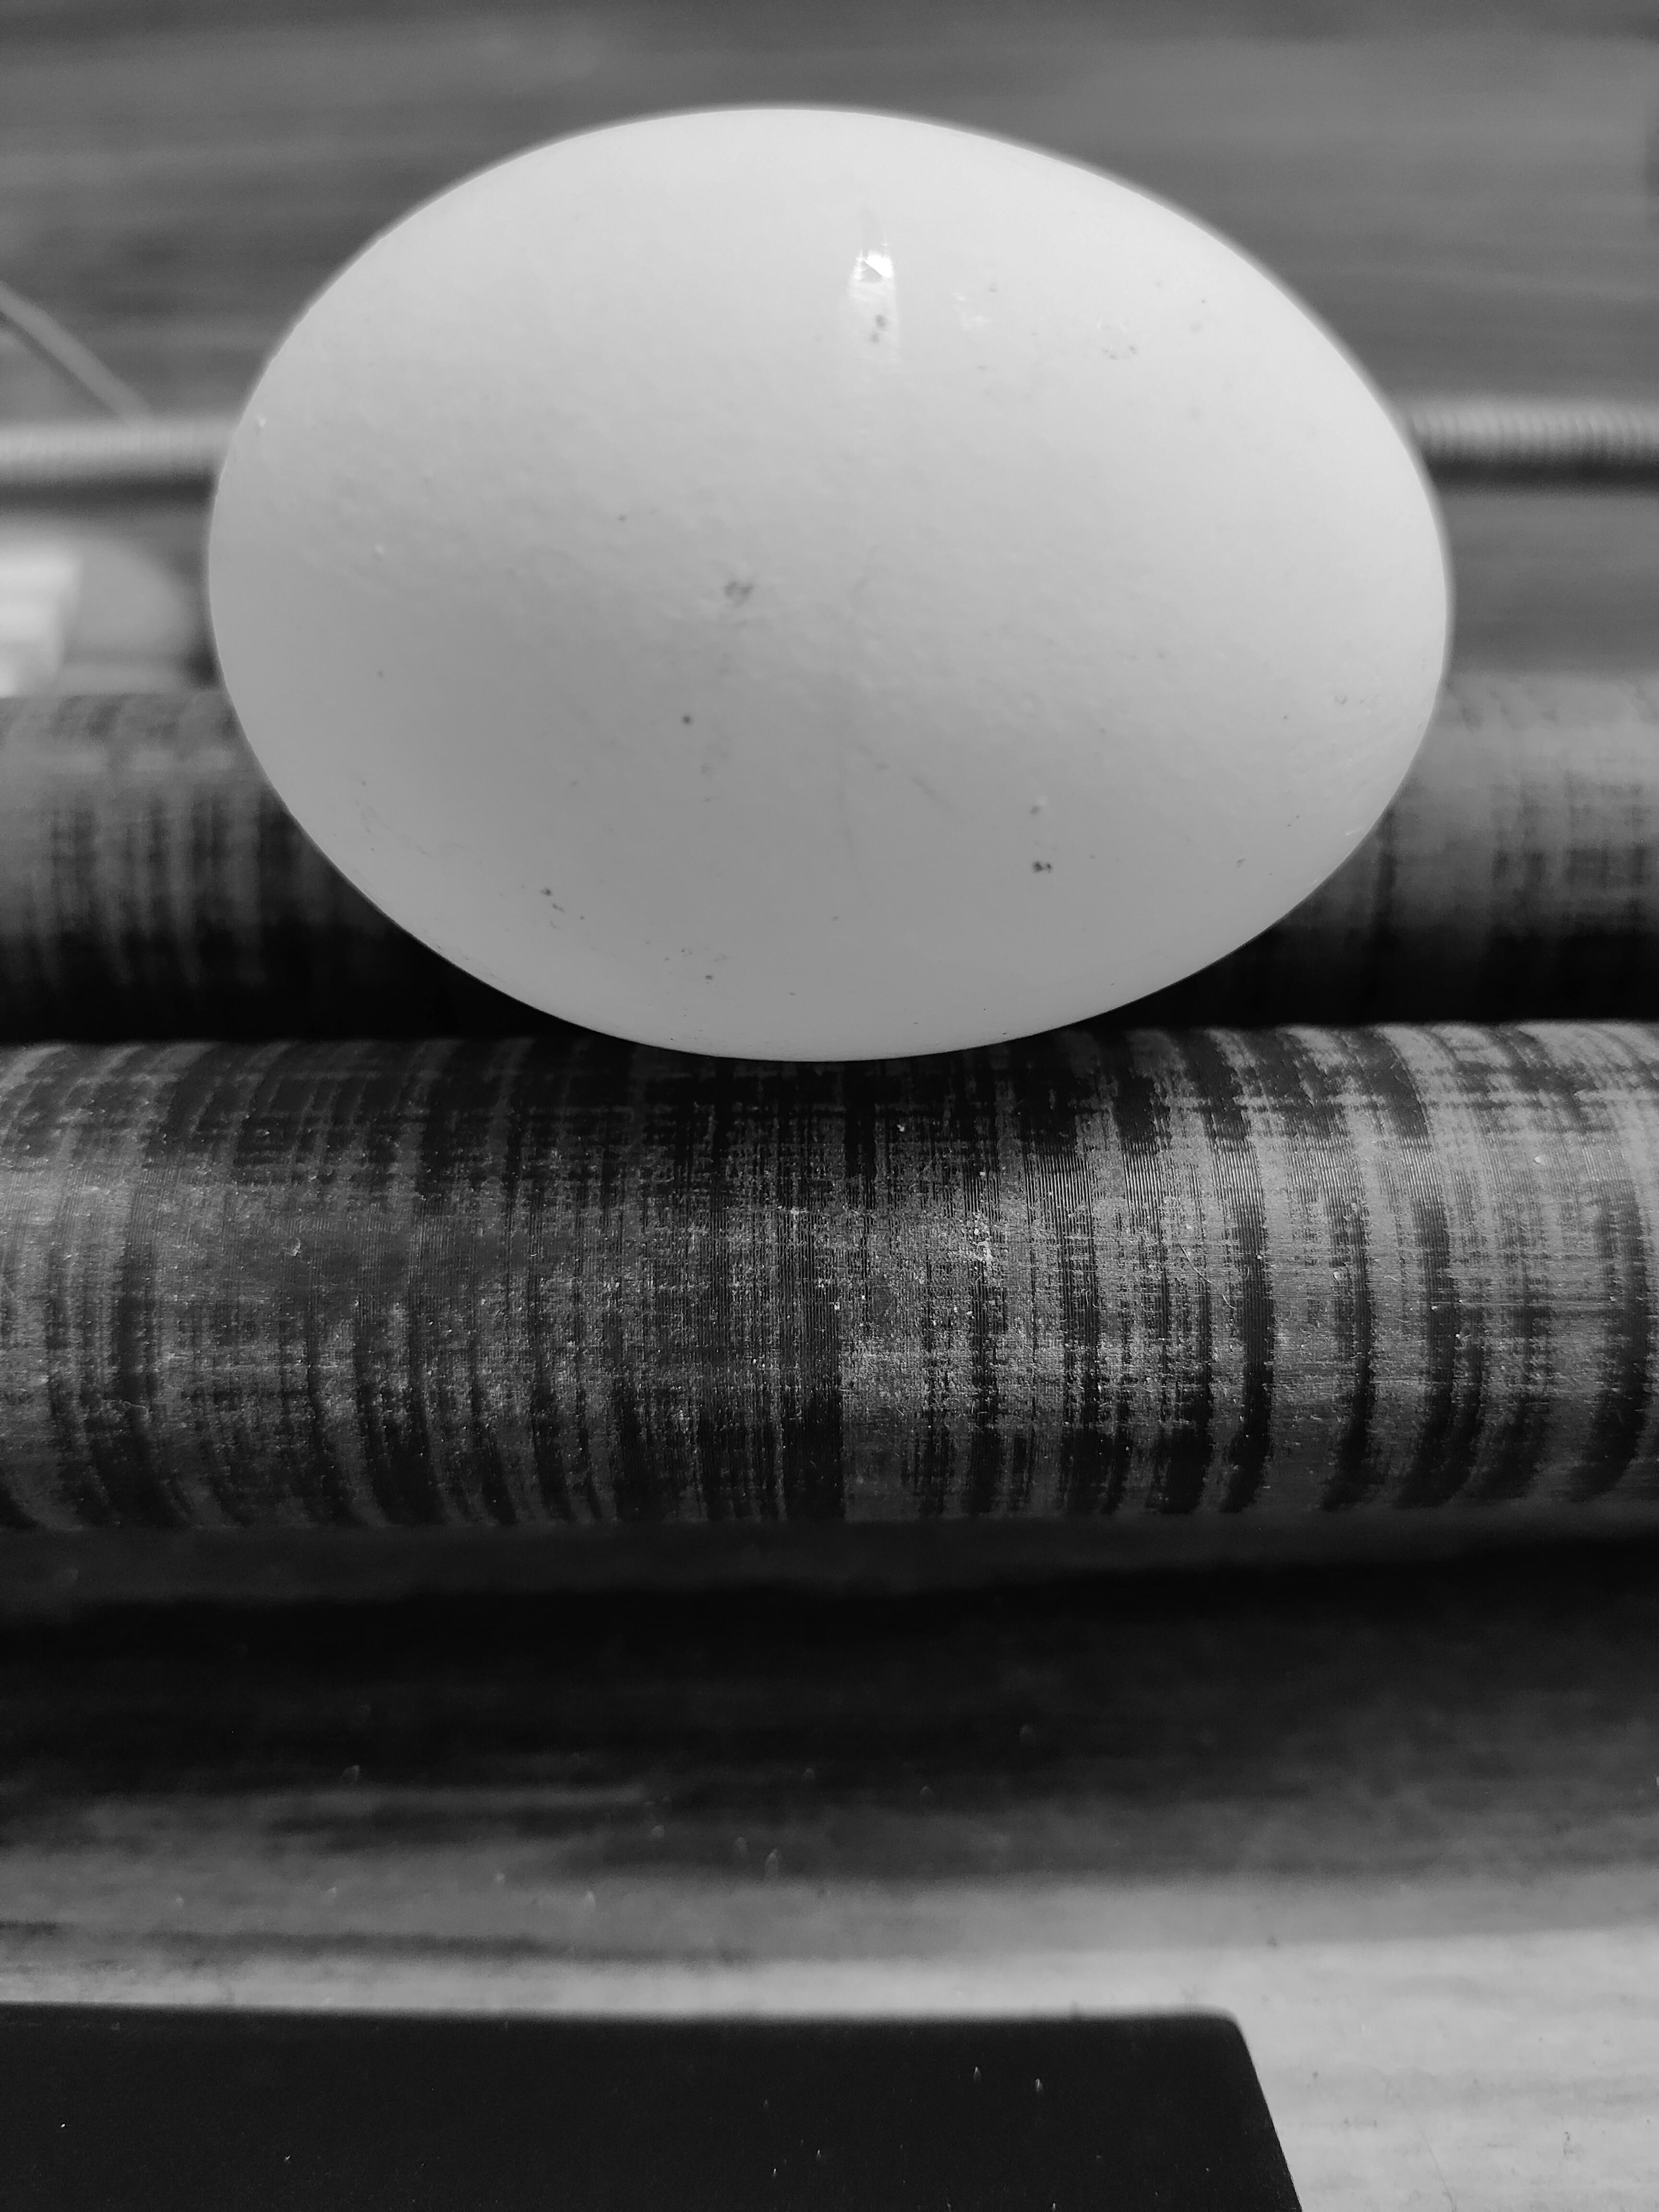telur: (164, 64, 1492, 1076)
